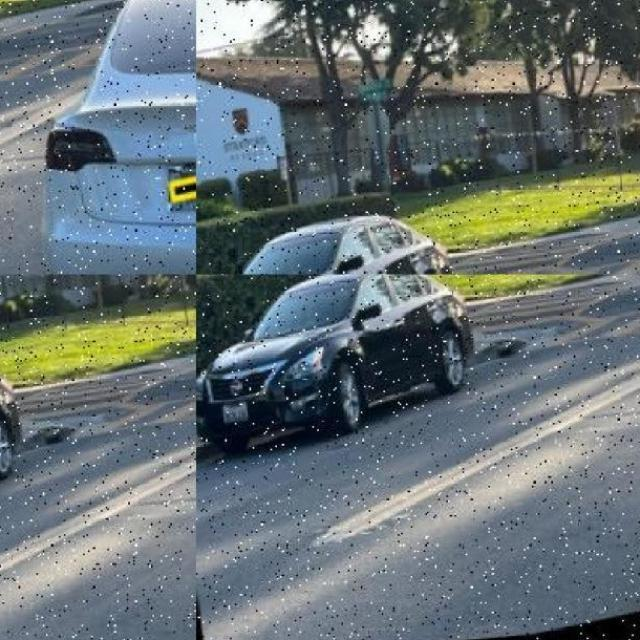License Plate: (212, 39, 264, 87), (0, 275, 40, 320), (219, 402, 244, 422)
